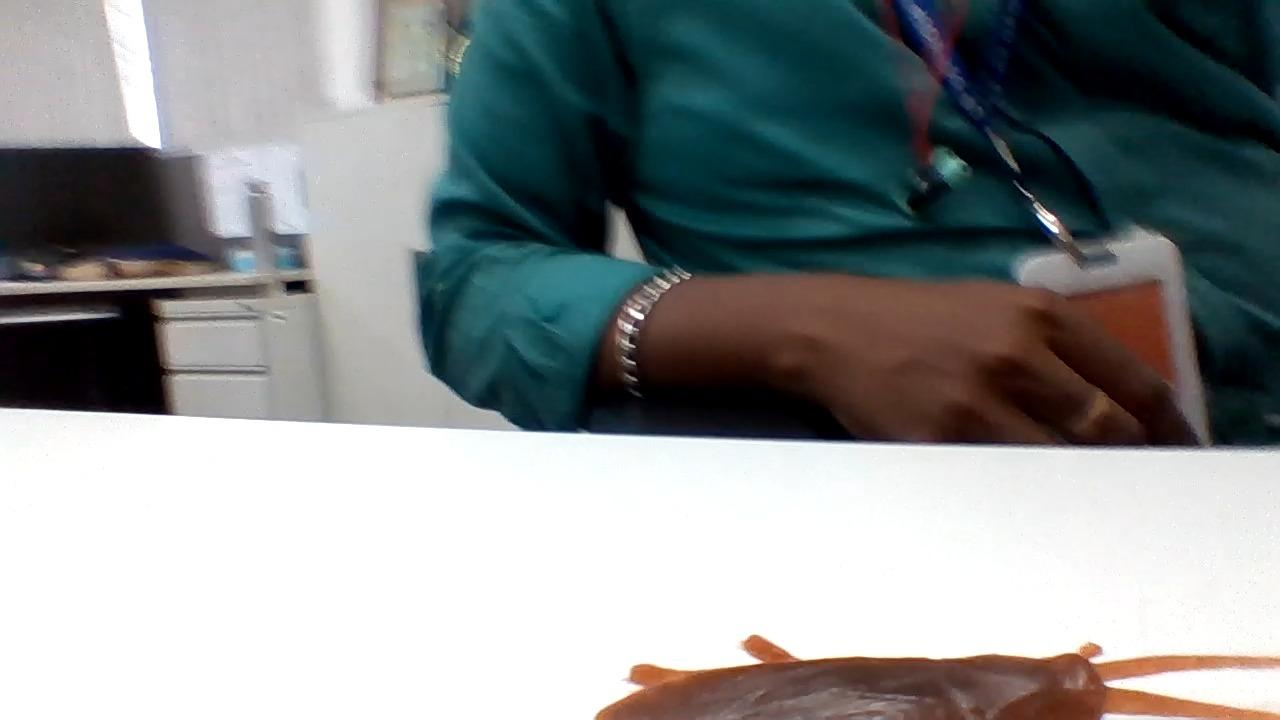cockroach: (585, 632, 1280, 720)
